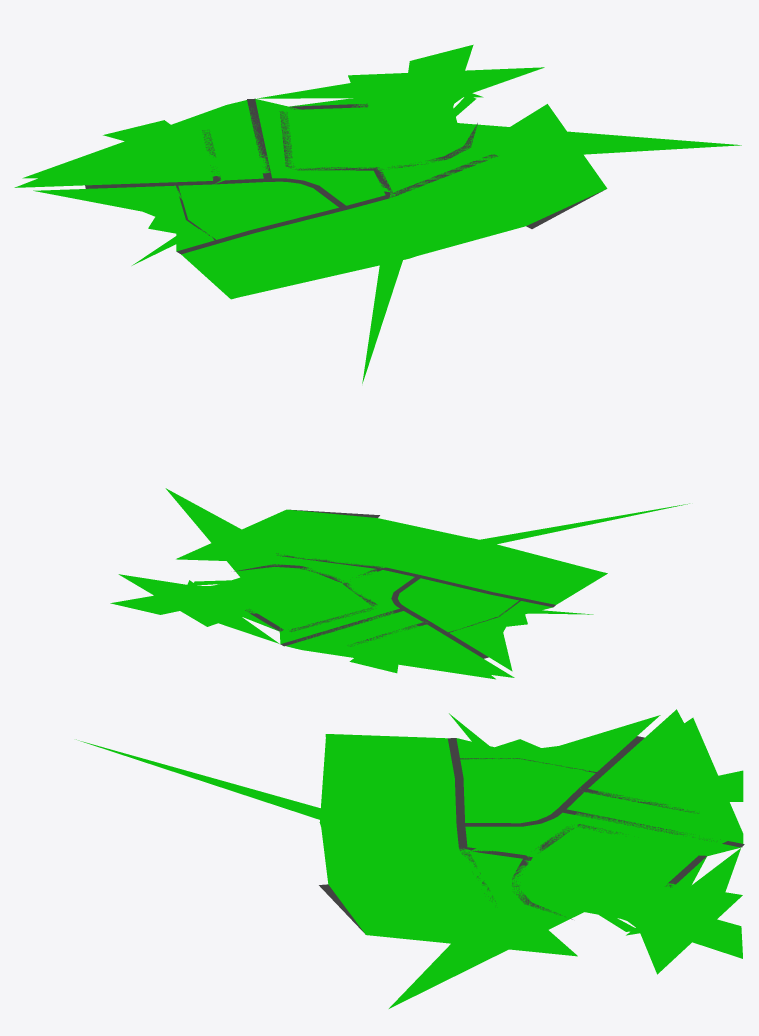
3 views of the same model, one above another, from view 1: azimuth 30°, elevation 25°; view 2: azimuth 150°, elevation 25°; view 3: azimuth 270°, elevation 25° (orthographic). The views are drawn at different scales.
Bounding box in the file's own units: 300 × 0.001 × 295.
